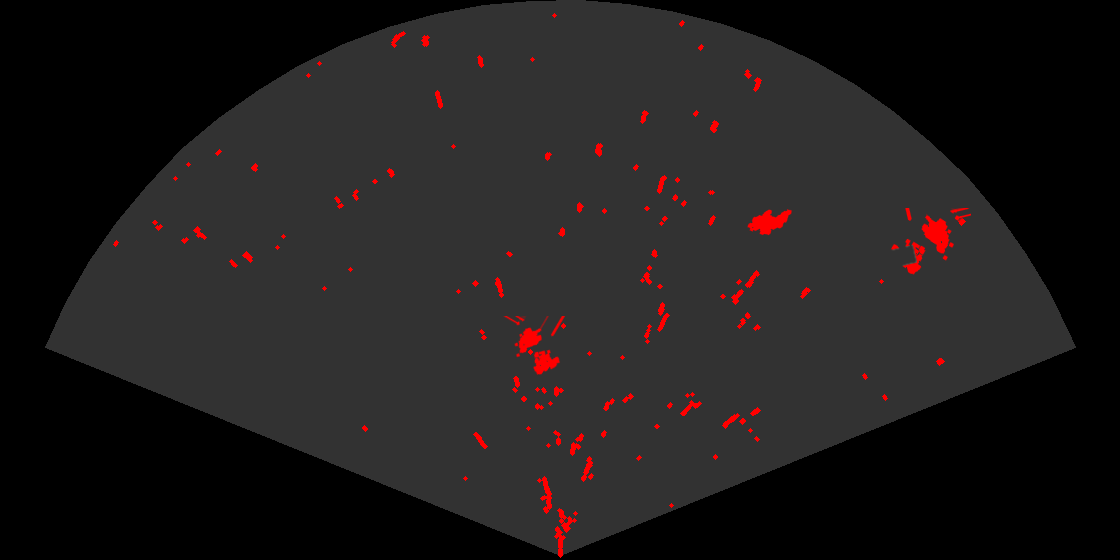AUV: (746, 208, 793, 237)
cage: (890, 208, 971, 276), (502, 316, 567, 376)
